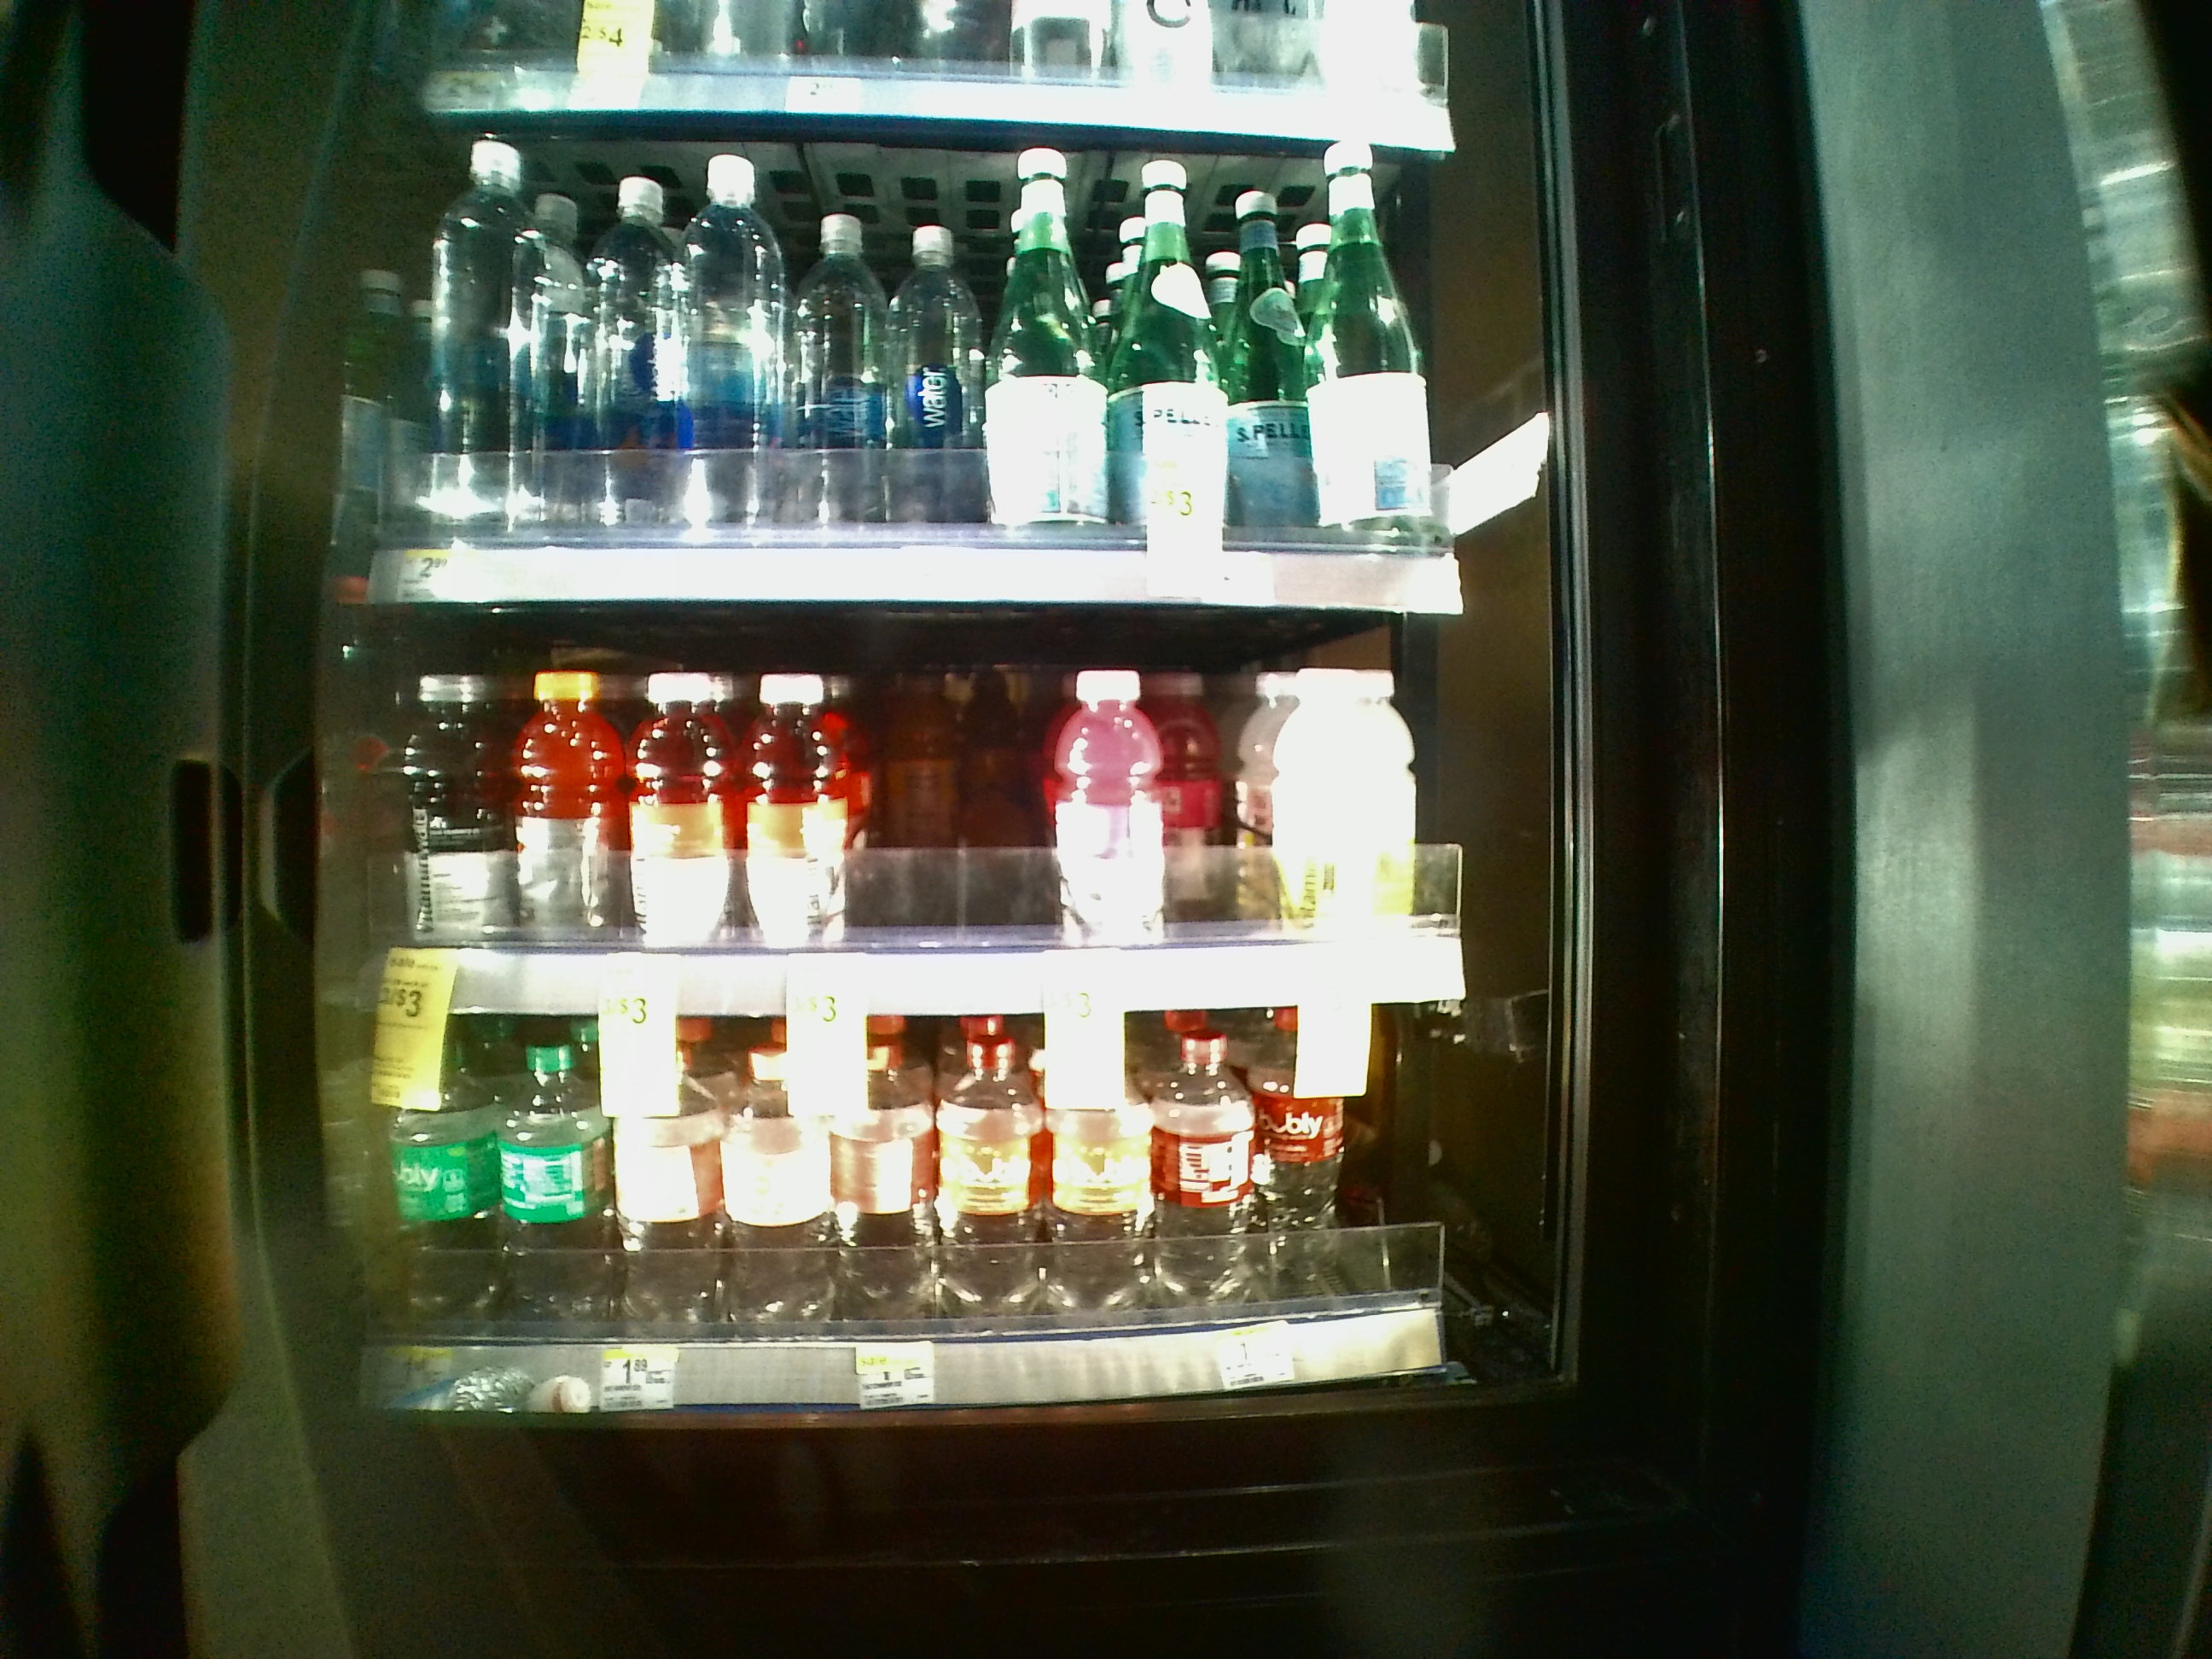Shelf: (341, 112, 1510, 620), (334, 622, 1514, 1018), (334, 1019, 1519, 1412)
